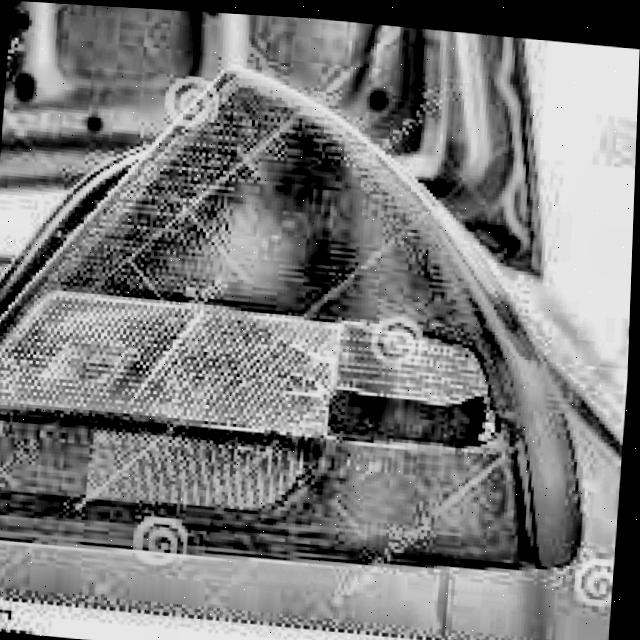tail_lamp: (20, 277, 507, 468)
